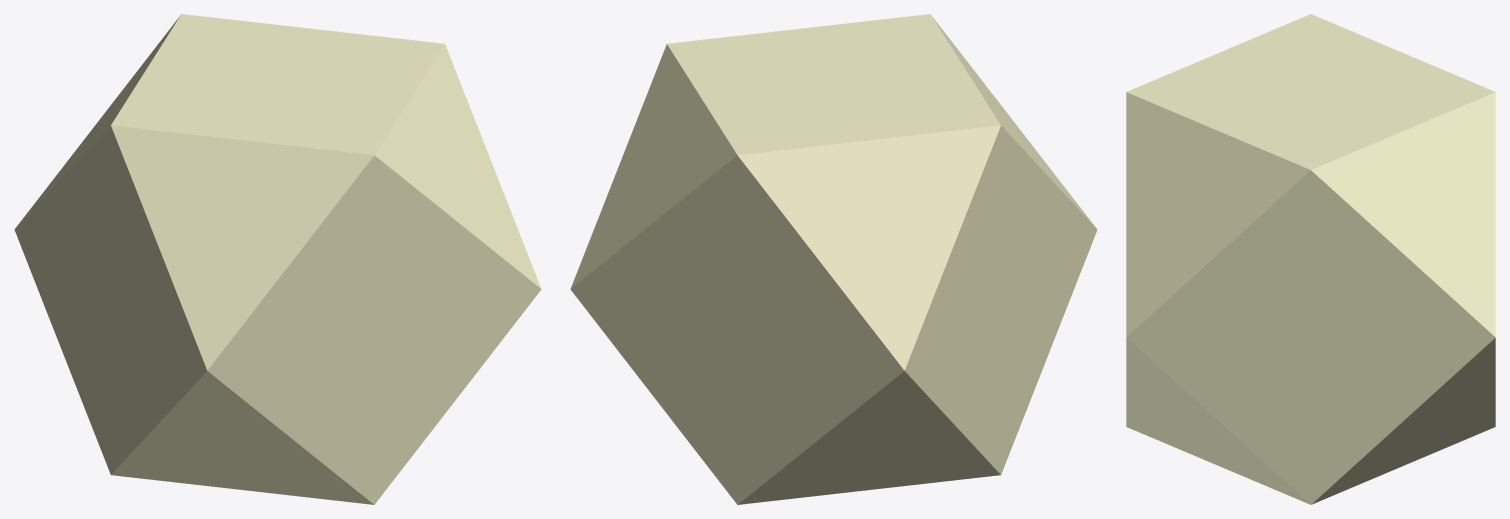
The model's file is cuboctahedron original.dae.
3 views of the same model, side by side, from view 1: azimuth 30°, elevation 25°; view 2: azimuth 150°, elevation 25°; view 3: azimuth 270°, elevation 25° (orthographic). The views are drawn at different scales.
Parts seen in each view (by area): view 1: SketchUp; view 2: SketchUp; view 3: SketchUp.
Boxes of the visible parts, <box> form: SketchUp: <box>14,14,541,504</box>; SketchUp: <box>570,14,1097,504</box>; SketchUp: <box>1126,14,1495,504</box>.
Bounding box in the file's own units: 120 × 120 × 120.
